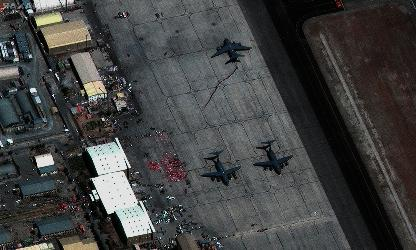C2: (202, 149, 242, 185), (254, 138, 294, 174), (213, 38, 253, 58)
